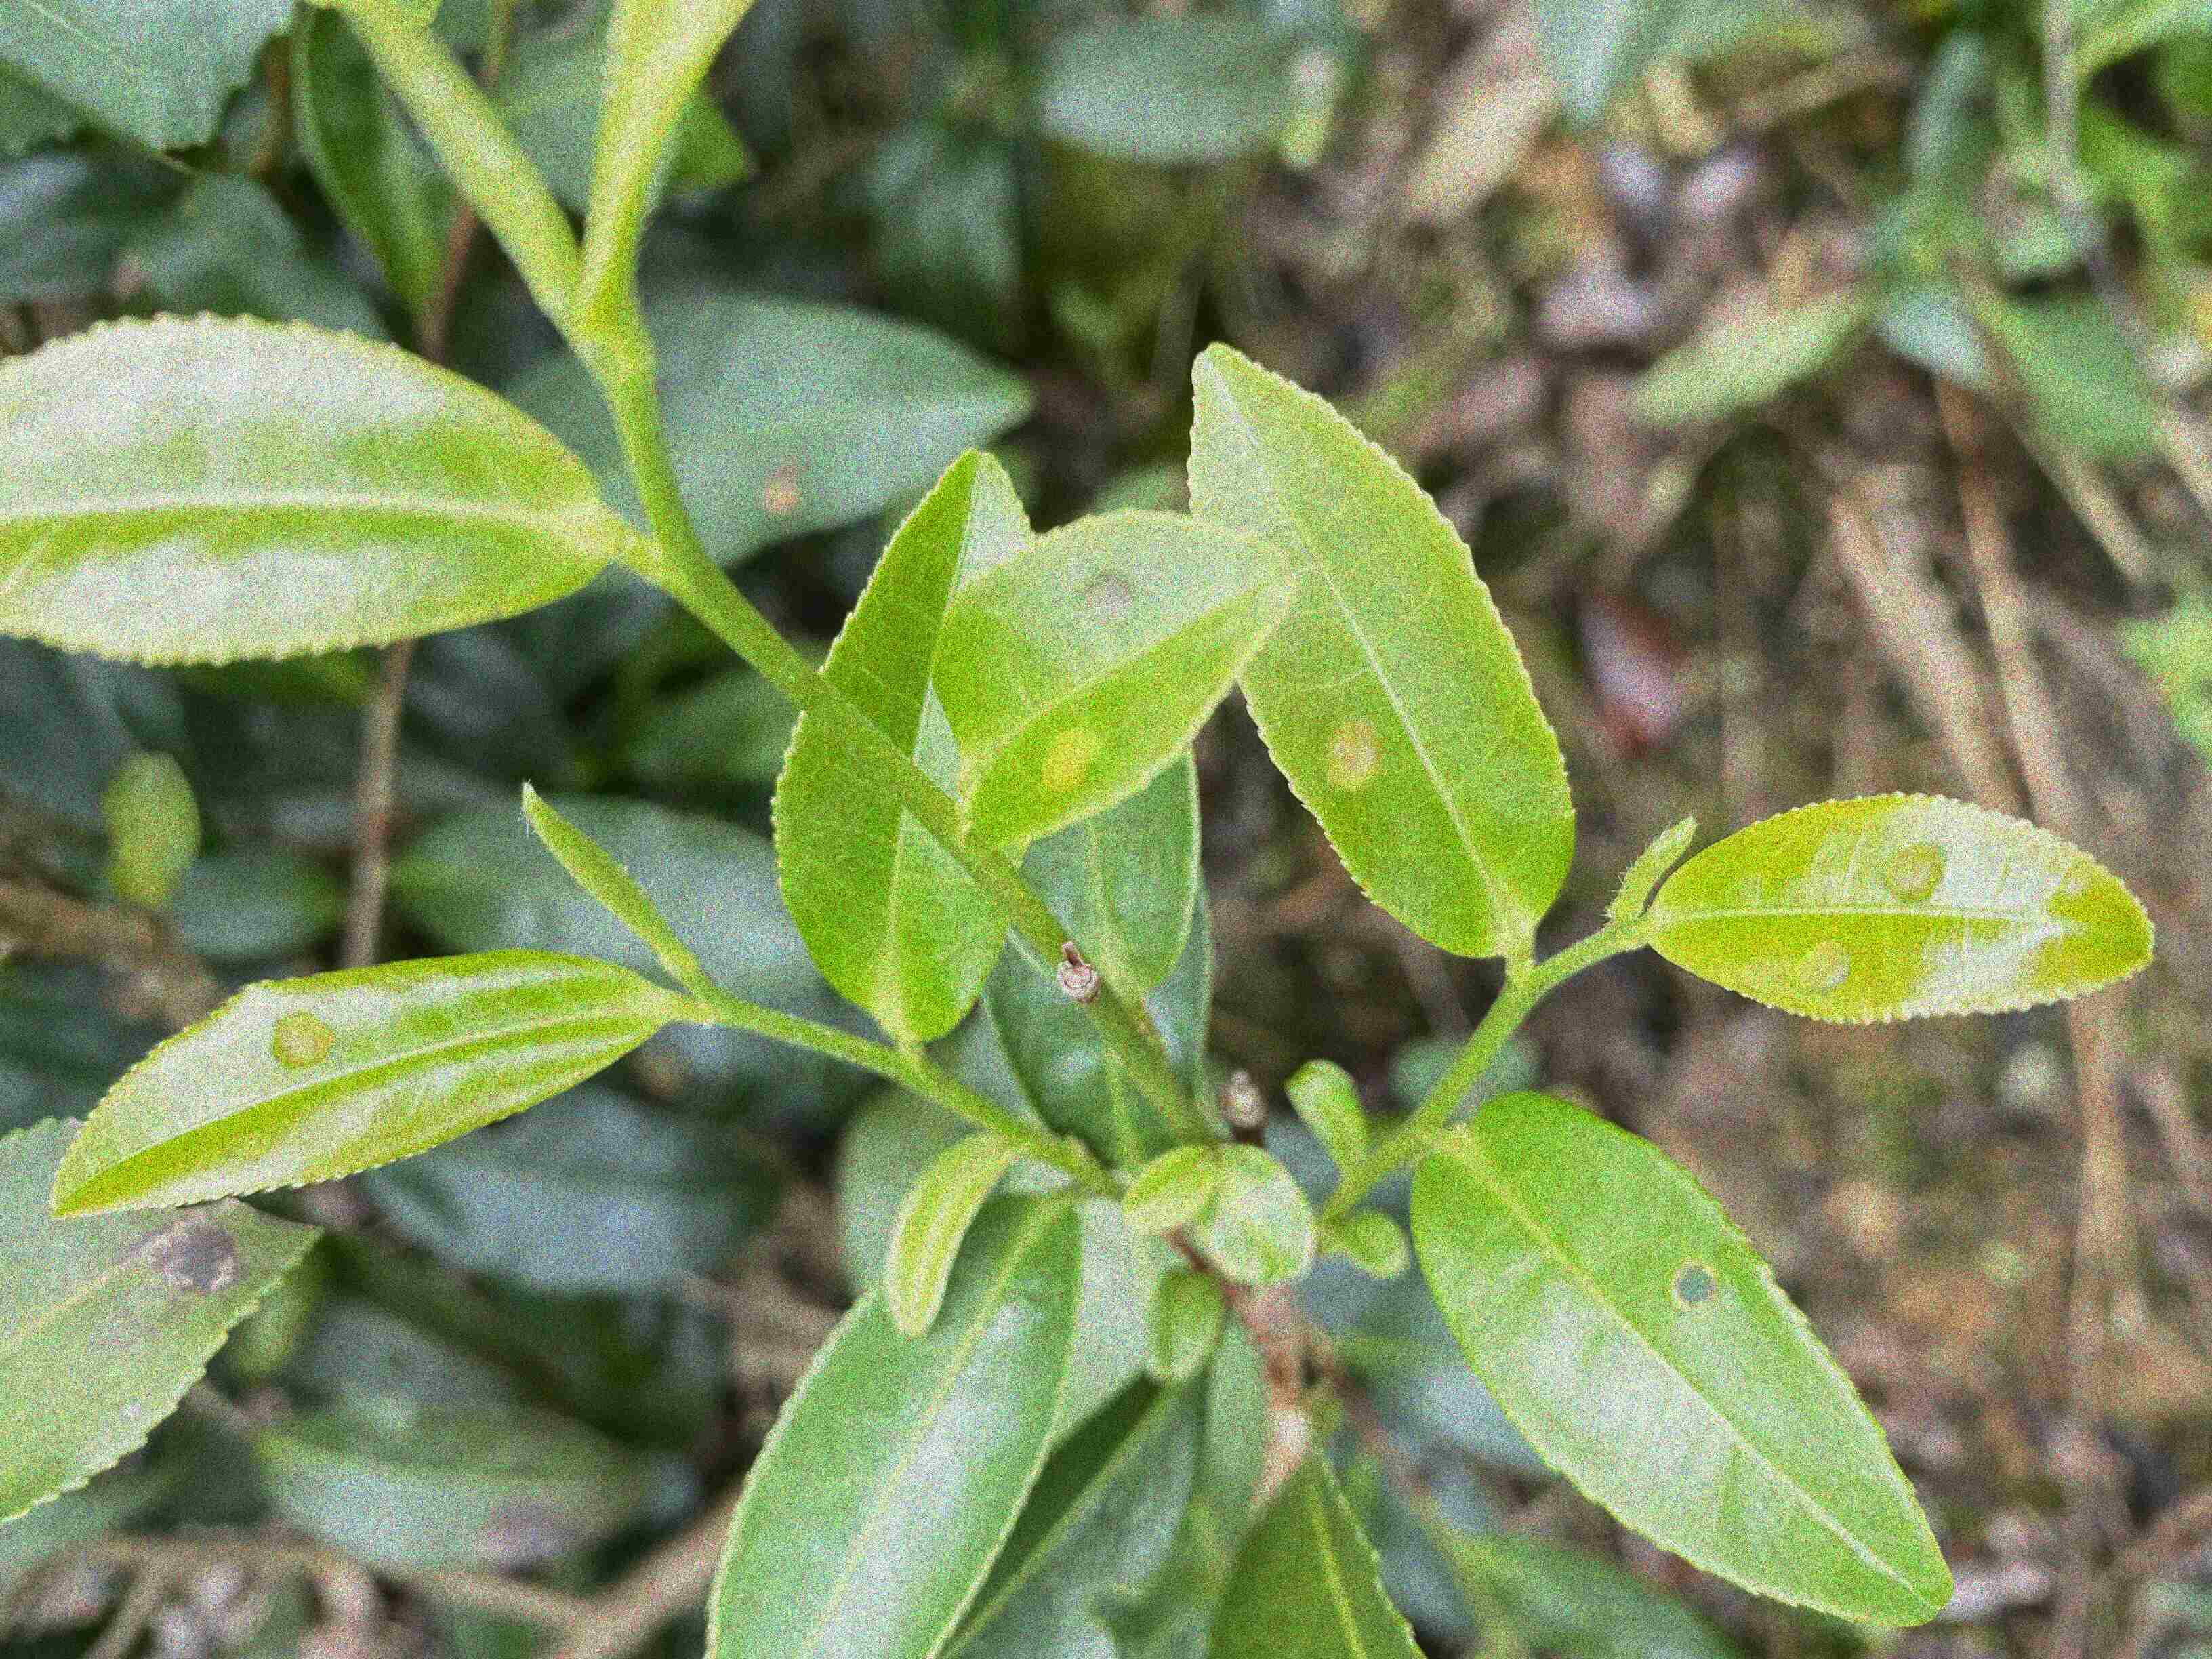chabing_high: (930, 505, 1296, 852), (1649, 791, 2155, 1025)
chabing_low: (1186, 345, 1576, 962), (49, 945, 667, 1223)
chihuo_low: (1404, 1087, 1958, 1629)
healthy: (705, 1195, 1085, 1656), (765, 450, 1040, 1046)
tanju_high: (0, 1110, 326, 1527)
tanju_low: (5, 308, 620, 671)
